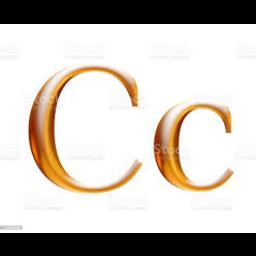c: (24, 55, 148, 201), (152, 78, 240, 200)
